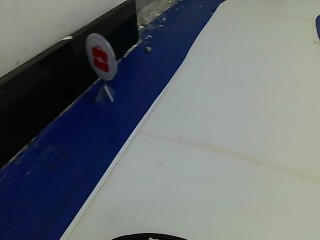company: (78, 27, 119, 88)
